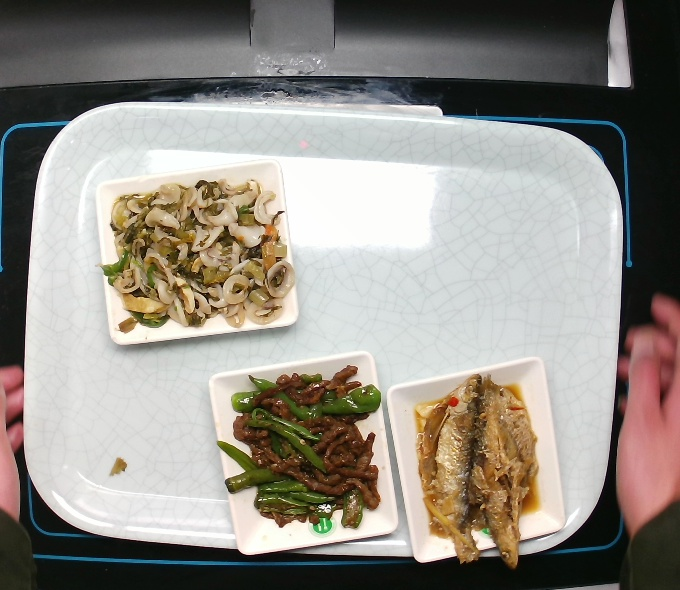wcq-QingJiaoNiuRou: (228, 364, 391, 531)
wcq-XiaoXiYu: (415, 367, 552, 558)
wcq-XueCaiYouYu: (111, 174, 289, 338)
